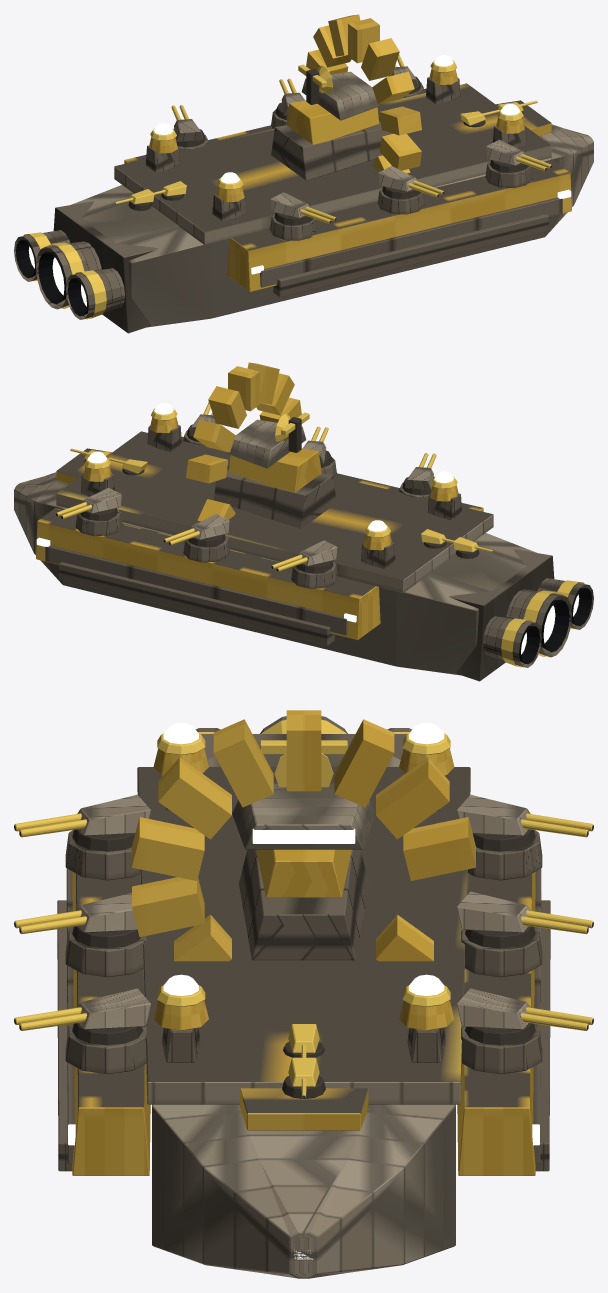
The model's file is cruiser.glb.
The picture shows the model from 3 angles, top to bottom: view 1: azimuth 30°, elevation 25°; view 2: azimuth 150°, elevation 25°; view 3: azimuth 270°, elevation 25°; orthographic projection. The views are drawn at different scales.
Visible parts, largest first — view 1: faction-leopantheri_cruiser; view 2: faction-leopantheri_cruiser; view 3: faction-leopantheri_cruiser.
Part boxes in pixels (x1,y1,x2,y2): faction-leopantheri_cruiser: (14,14,593,333); faction-leopantheri_cruiser: (14,362,593,681); faction-leopantheri_cruiser: (14,710,593,1278).
Size of the model in its own units: 42 by 16.47 by 21.26.
Materials: 1 (1 with a texture image).
